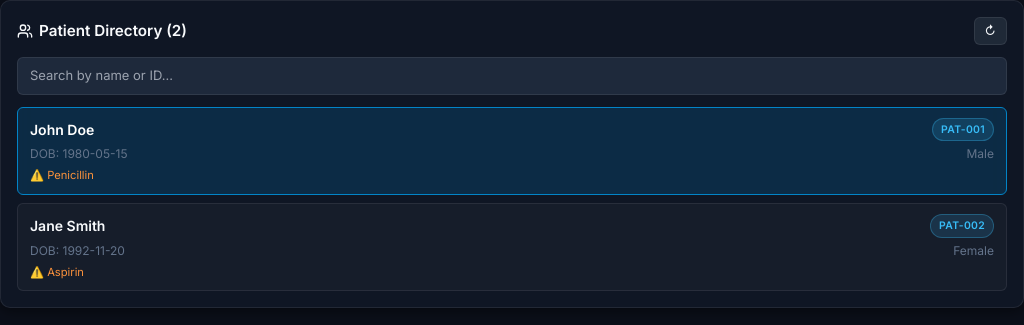
Scenario: Patient Directory & Context › filters patient directory on search query
Check: the text "John Doe" is shown, box [30,119,94,140]
Step 1. Type "Jane" into the field with placeholder "Search by name or ID..." → (512, 76), box [17,57,1007,94]
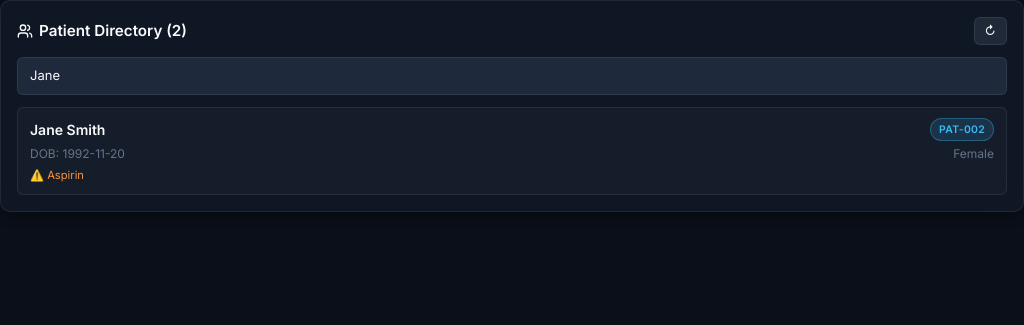
Check: the text "Jane Smith" is shown, box [30,119,106,140]
Check: the text "John Doe" is gone
